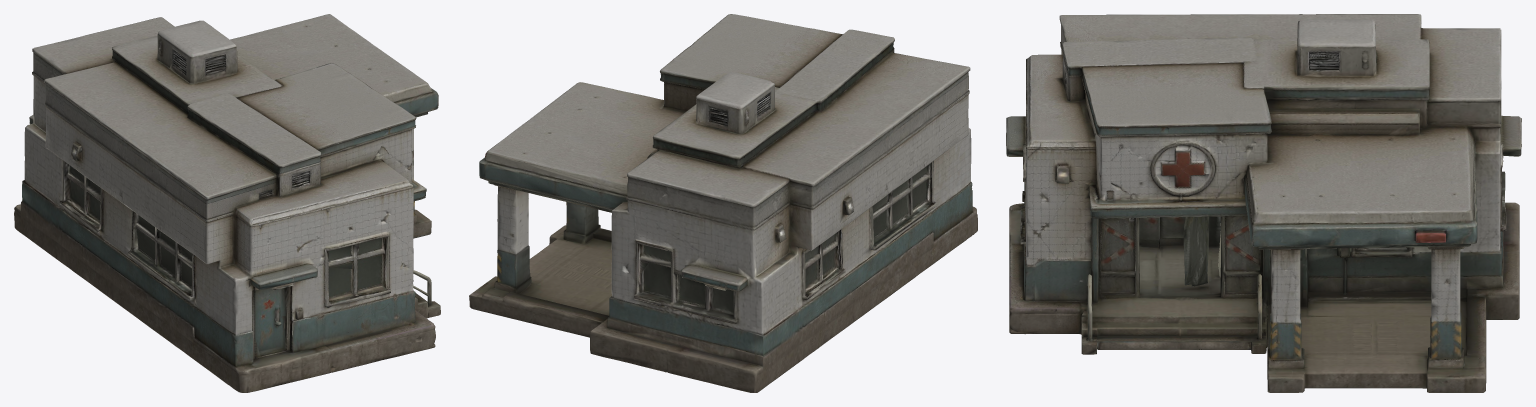
Rendered from tripo_convert_623e736d-e7b2-426b-af1c-1e7364c71213.fbx.
3 views of the same model, side by side, from view 1: azimuth 30°, elevation 25°; view 2: azimuth 150°, elevation 25°; view 3: azimuth 270°, elevation 25° (orthographic). The views are drawn at different scales.
Visible parts, largest first — view 1: tripo_node_623e736d; view 2: tripo_node_623e736d; view 3: tripo_node_623e736d.
Boxes of the visible parts, bbox=[...] form: tripo_node_623e736d: bbox=[14, 14, 440, 392]; tripo_node_623e736d: bbox=[469, 14, 977, 392]; tripo_node_623e736d: bbox=[1006, 14, 1521, 392].
Bounding box in the file's own units: 0.8007 × 0.5316 × 0.9792.
Materials: 1 (1 with a texture image).
